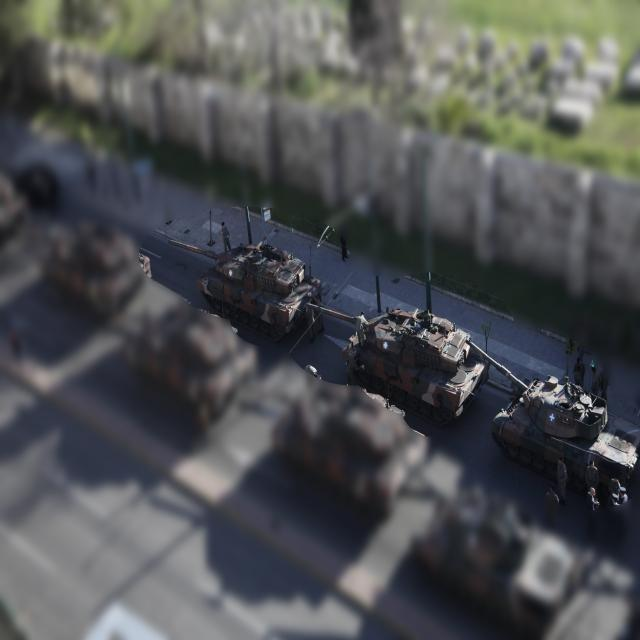tank: (490, 330, 639, 522), (328, 298, 490, 432), (168, 229, 322, 345)
